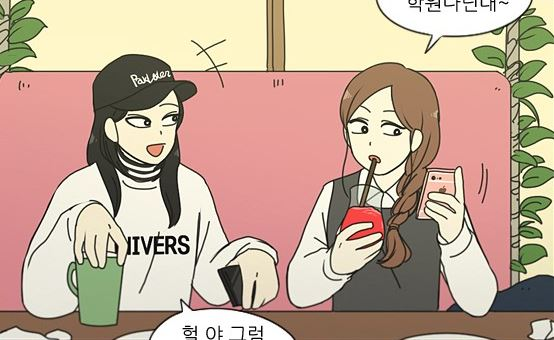hat: (83, 52, 205, 107)
